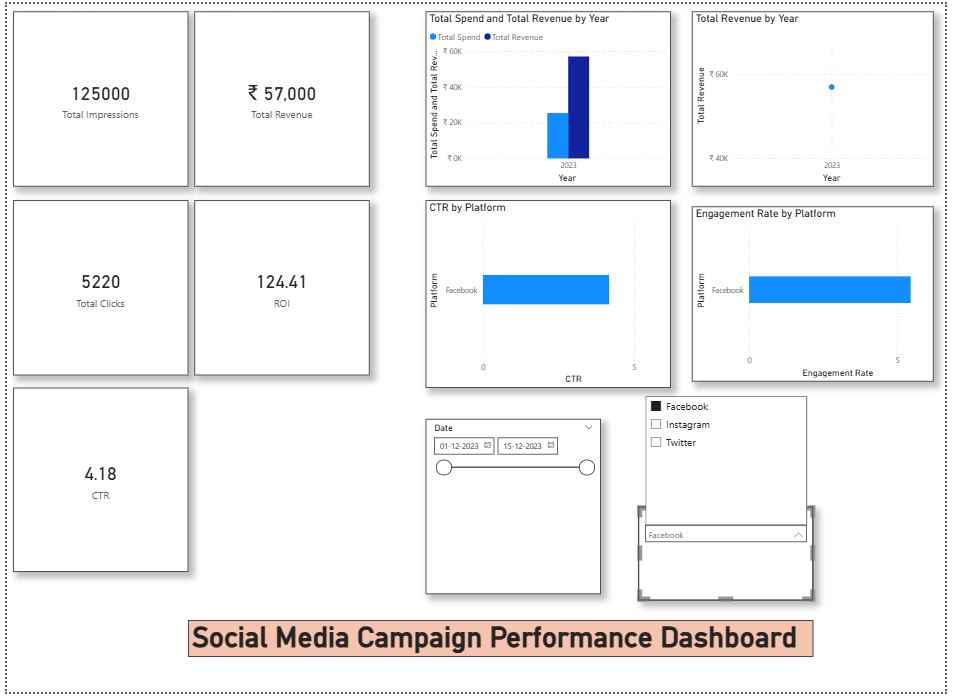

The page's visual inventory and layout, read from the dashboard file:
{"tool":"powerbi","page":{"name":"Page 1","canvas":[1500,1100],"ordinal":0},"visuals":[{"type":"card","fields":{"Values":["social_media_campaign_data.Total Impressions"]},"box":[10,12,280,280],"z":0},{"type":"card","fields":{"Values":["social_media_campaign_data.Total Clicks"]},"box":[10,314,280,280],"z":1000},{"type":"card","fields":{"Values":["social_media_campaign_data.CTR"]},"box":[10,614,280,294],"z":2000},{"type":"card","fields":{"Values":["social_media_campaign_data.Total Revenue"]},"box":[300,12,280,280],"z":3000},{"type":"card","fields":{"Values":["social_media_campaign_data.ROI"]},"box":[300,314,280,280],"z":4000},{"type":"lineChart","fields":{"Category":["social_media_campaign_data.Date.Variation.Date Hierarchy.Year","social_media_campaign_data.Date.Variation.Date Hierarchy.Quarter","social_media_campaign_data.Date.Variation.Date Hierarchy.Month","social_media_campaign_data.Date.Variation.Date Hierarchy.Day"],"Y":["social_media_campaign_data.Total Revenue"]},"box":[1096,12,386,280],"z":5000},{"type":"barChart","fields":{"Category":["social_media_campaign_data.Platform"],"Y":["social_media_campaign_data.CTR"]},"box":[670,314,392,300],"z":6000},{"type":"clusteredColumnChart","fields":{"Category":["social_media_campaign_data.Date.Variation.Date Hierarchy.Year","social_media_campaign_data.Date.Variation.Date Hierarchy.Quarter","social_media_campaign_data.Date.Variation.Date Hierarchy.Month","social_media_campaign_data.Date.Variation.Date Hierarchy.Day"],"Y":["social_media_campaign_data.Total Spend","social_media_campaign_data.Total Revenue"]},"box":[670,12,392,280],"z":7000},{"type":"barChart","fields":{"Category":["social_media_campaign_data.Platform"],"Y":["social_media_campaign_data.Engagement Rate"]},"box":[1096,324,386,280],"z":8000},{"type":"slicer","fields":{"Values":["social_media_campaign_data.Platform"]},"box":[1010,664,280,150],"z":9000},{"type":"slicer","fields":{"Values":["social_media_campaign_data.Date"]},"box":[670,664,280,280],"z":10000},{"type":"textbox","title":"Social Media Campaign Performance Dashboard","box":[290,986,1000,58],"z":11000}]}

Visuals, with their boxes in screenshot pixels (x1, y1, x2, y2), scaled from the page's 1500x1100 canvas onto the 968x697 screenshot:
card - social_media_campaign_data.Total Impressions: <region>6, 8, 187, 185</region>
card - social_media_campaign_data.Total Clicks: <region>6, 199, 187, 376</region>
card - social_media_campaign_data.CTR: <region>6, 389, 187, 575</region>
card - social_media_campaign_data.Total Revenue: <region>194, 8, 374, 185</region>
card - social_media_campaign_data.ROI: <region>194, 199, 374, 376</region>
lineChart - social_media_campaign_data.Date.Variation.Date Hierarchy.Year x social_media_campaign_data.Date.Variation.Date Hierarchy.Quarter: <region>707, 8, 956, 185</region>
barChart - social_media_campaign_data.Platform x social_media_campaign_data.CTR: <region>432, 199, 685, 389</region>
clusteredColumnChart - social_media_campaign_data.Date.Variation.Date Hierarchy.Year x social_media_campaign_data.Date.Variation.Date Hierarchy.Quarter: <region>432, 8, 685, 185</region>
barChart - social_media_campaign_data.Platform x social_media_campaign_data.Engagement Rate: <region>707, 205, 956, 383</region>
slicer - social_media_campaign_data.Platform: <region>652, 421, 832, 516</region>
slicer - social_media_campaign_data.Date: <region>432, 421, 613, 598</region>
"Social Media Campaign Performance Dashboard" textbox: <region>187, 625, 832, 662</region>
